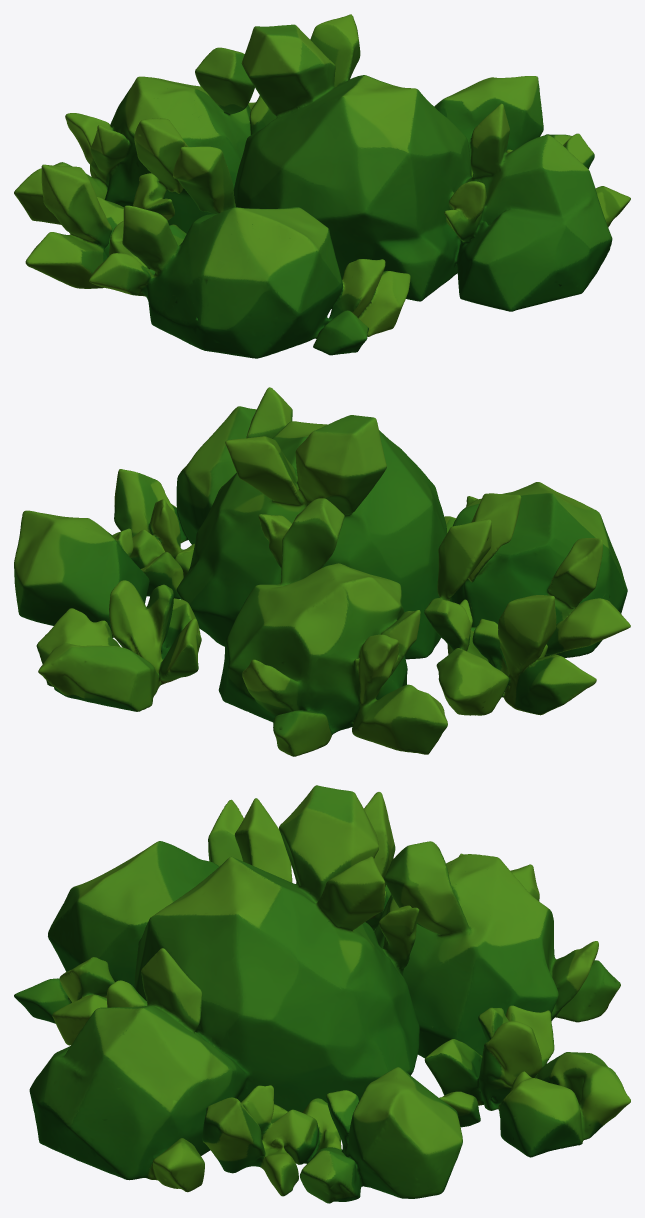
File: bush2.glb
The picture shows the model from 3 angles, top to bottom: view 1: azimuth 30°, elevation 25°; view 2: azimuth 150°, elevation 25°; view 3: azimuth 270°, elevation 25°; orthographic projection. The views are drawn at different scales.
Visible parts, largest first — view 1: world; view 2: world; view 3: world.
Boxes of the visible parts, x1,y1,x2,y2 form: world: [14, 14, 630, 358]; world: [14, 387, 630, 756]; world: [14, 785, 630, 1203].
Bounding box in the file's own units: 1 × 0.3822 × 0.8504.
1 material, 1 textured.
